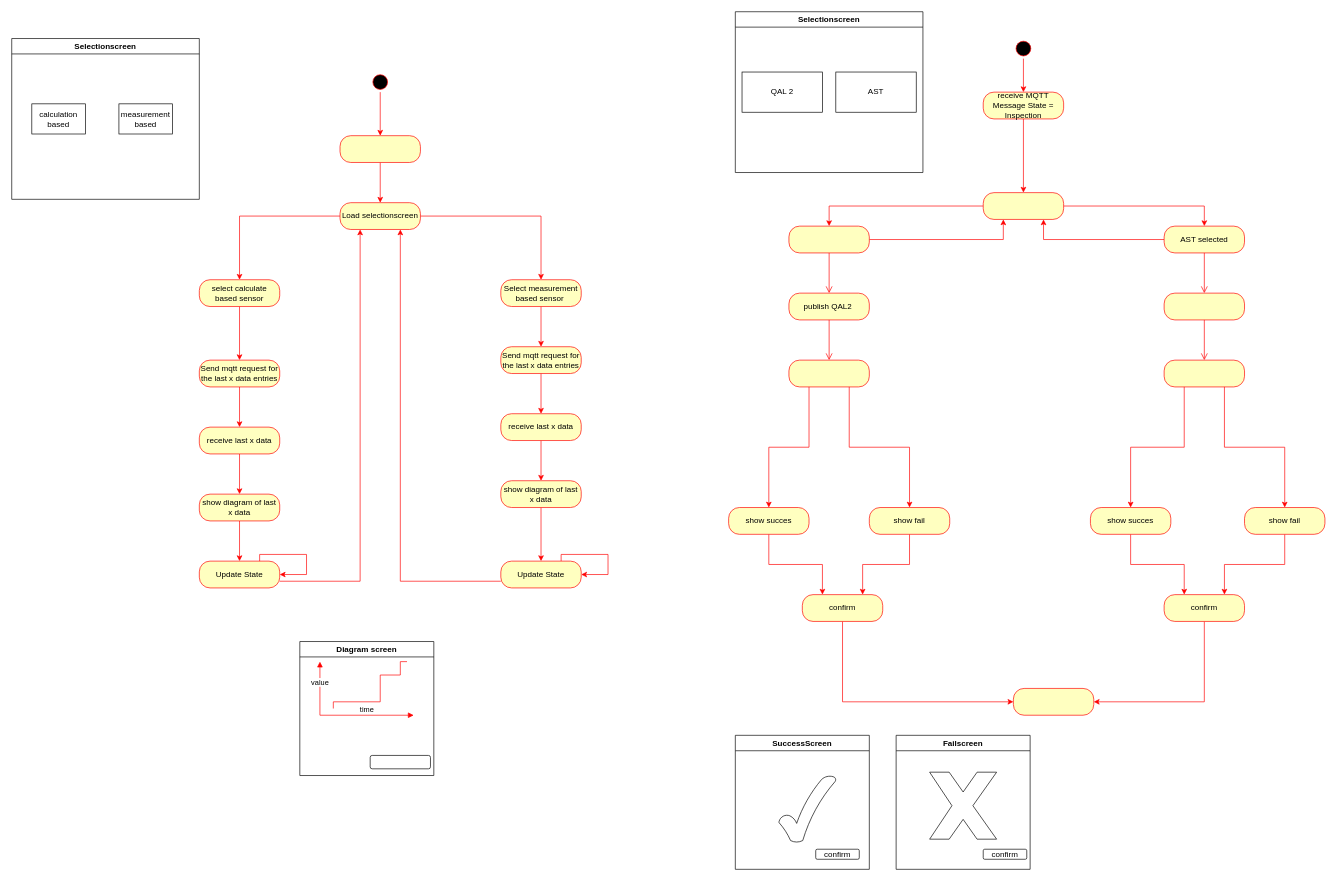
The diagram is 1337 pixels wide and 881 high, and some of its shapes have lost their labels. The shapes that lost their labels are listed below. From the top down, each one's centre as x and y in pixels, then its label:
At [379,148]: "receive MQTT message State = default".
At [1023,205]: "show selectionscreen".
At [828,239]: "QAL2 selected".
At [1204,306]: "publish AST".
At [828,373]: "receive QAL2 result".
At [1204,373]: "receive AST result".
At [1053,701]: "publish MQTT State = default".
At [400,762]: "back".
